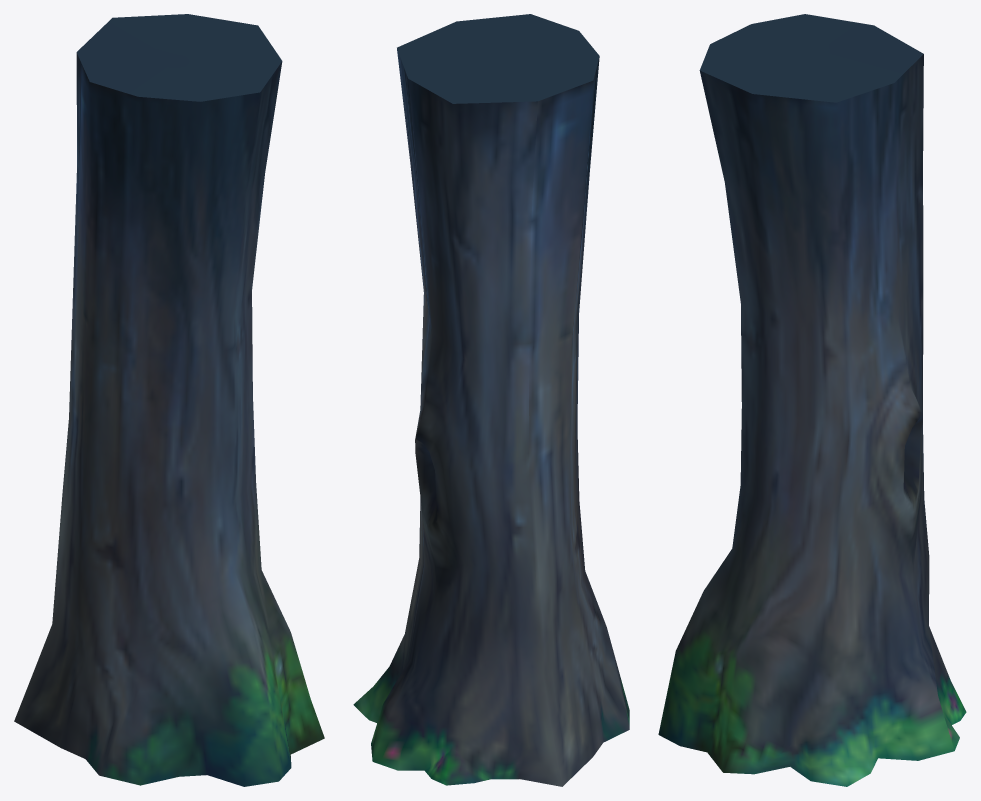
The model's file is BG001_deco_12.fbx.
The picture shows the model from 3 angles, left to right: view 1: azimuth 30°, elevation 25°; view 2: azimuth 150°, elevation 25°; view 3: azimuth 270°, elevation 25°; orthographic projection.
Visible parts, largest first — view 1: wall_01_ms_opq; view 2: wall_01_ms_opq; view 3: wall_01_ms_opq.
Boxes of the visible parts, bbox=[...] form: wall_01_ms_opq: bbox=[14, 14, 324, 786]; wall_01_ms_opq: bbox=[353, 14, 629, 786]; wall_01_ms_opq: bbox=[658, 14, 966, 786].
Bounding box in the file's own units: 399 × 1047 × 439.
